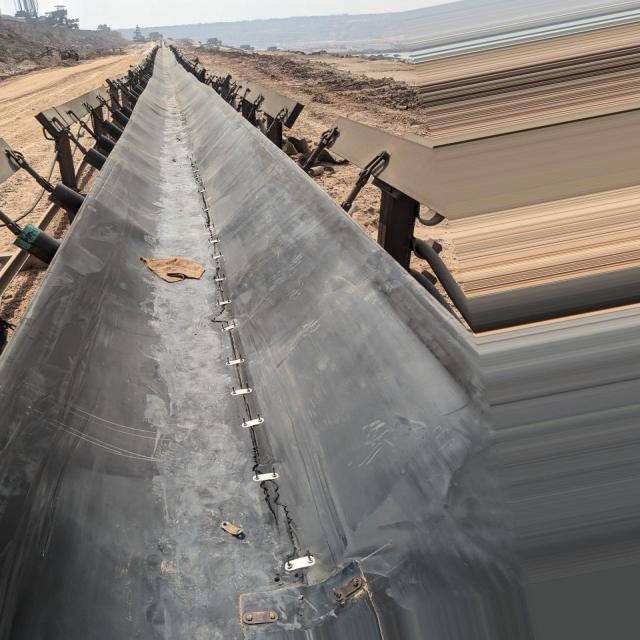Other Objects: (141, 257, 206, 282)
Roller: (83, 80, 149, 168), (14, 224, 62, 266), (48, 181, 86, 216)
patch work: (191, 179, 330, 579), (241, 561, 375, 640)
